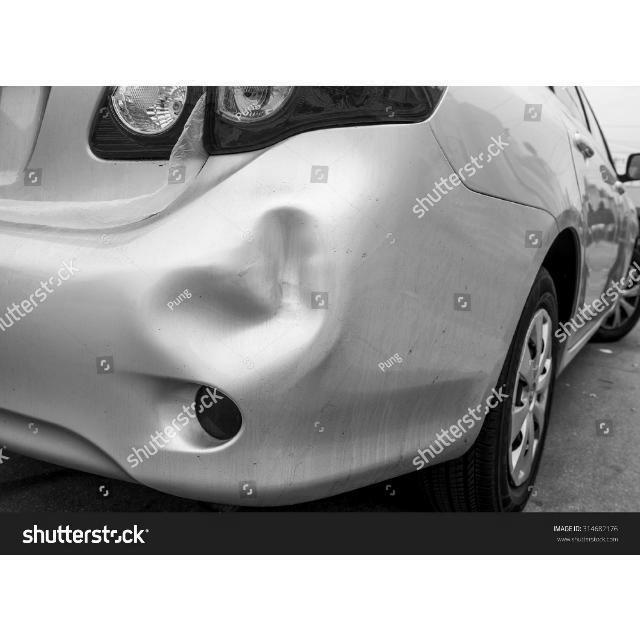rear-bumper-dent: (0, 197, 474, 486)
